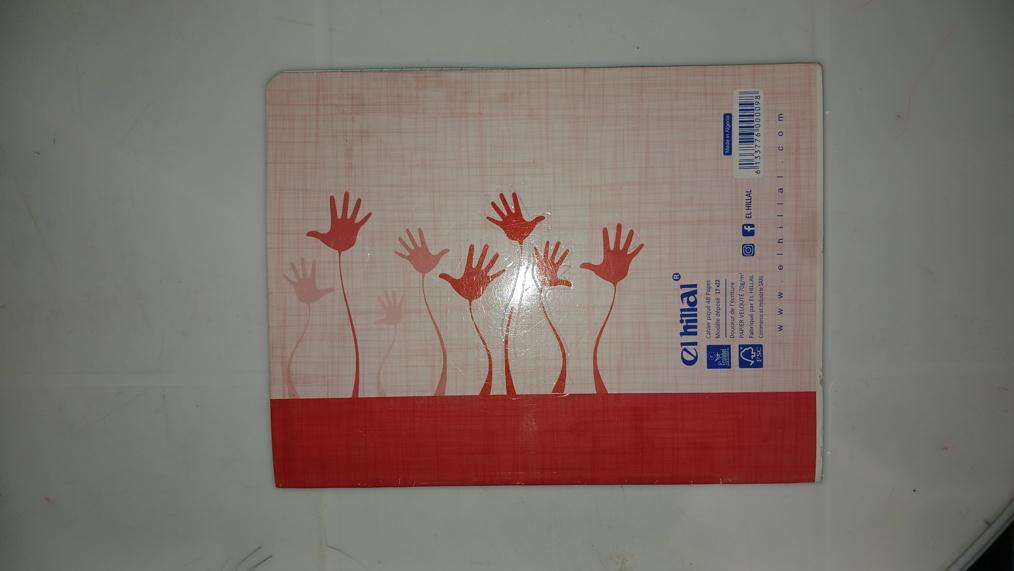notebook: (269, 64, 825, 487)
